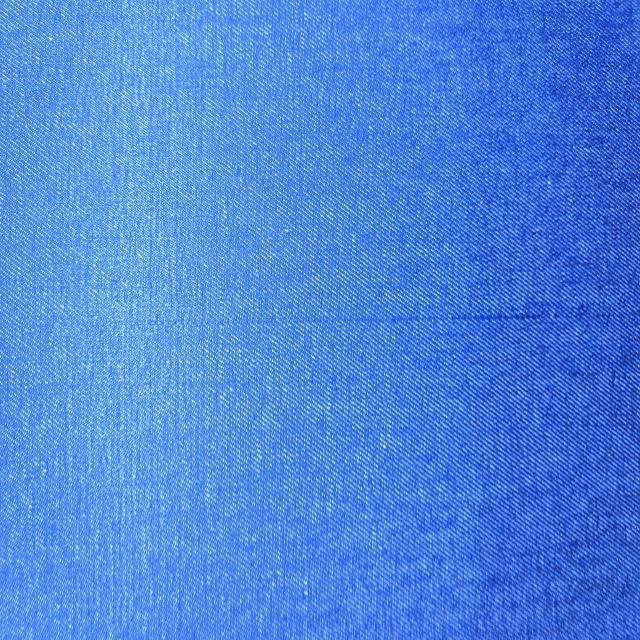Line: (67, 307, 581, 332)
